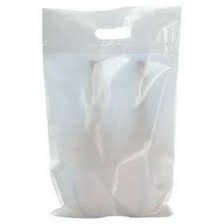plastic_bag: (36, 3, 184, 221)
